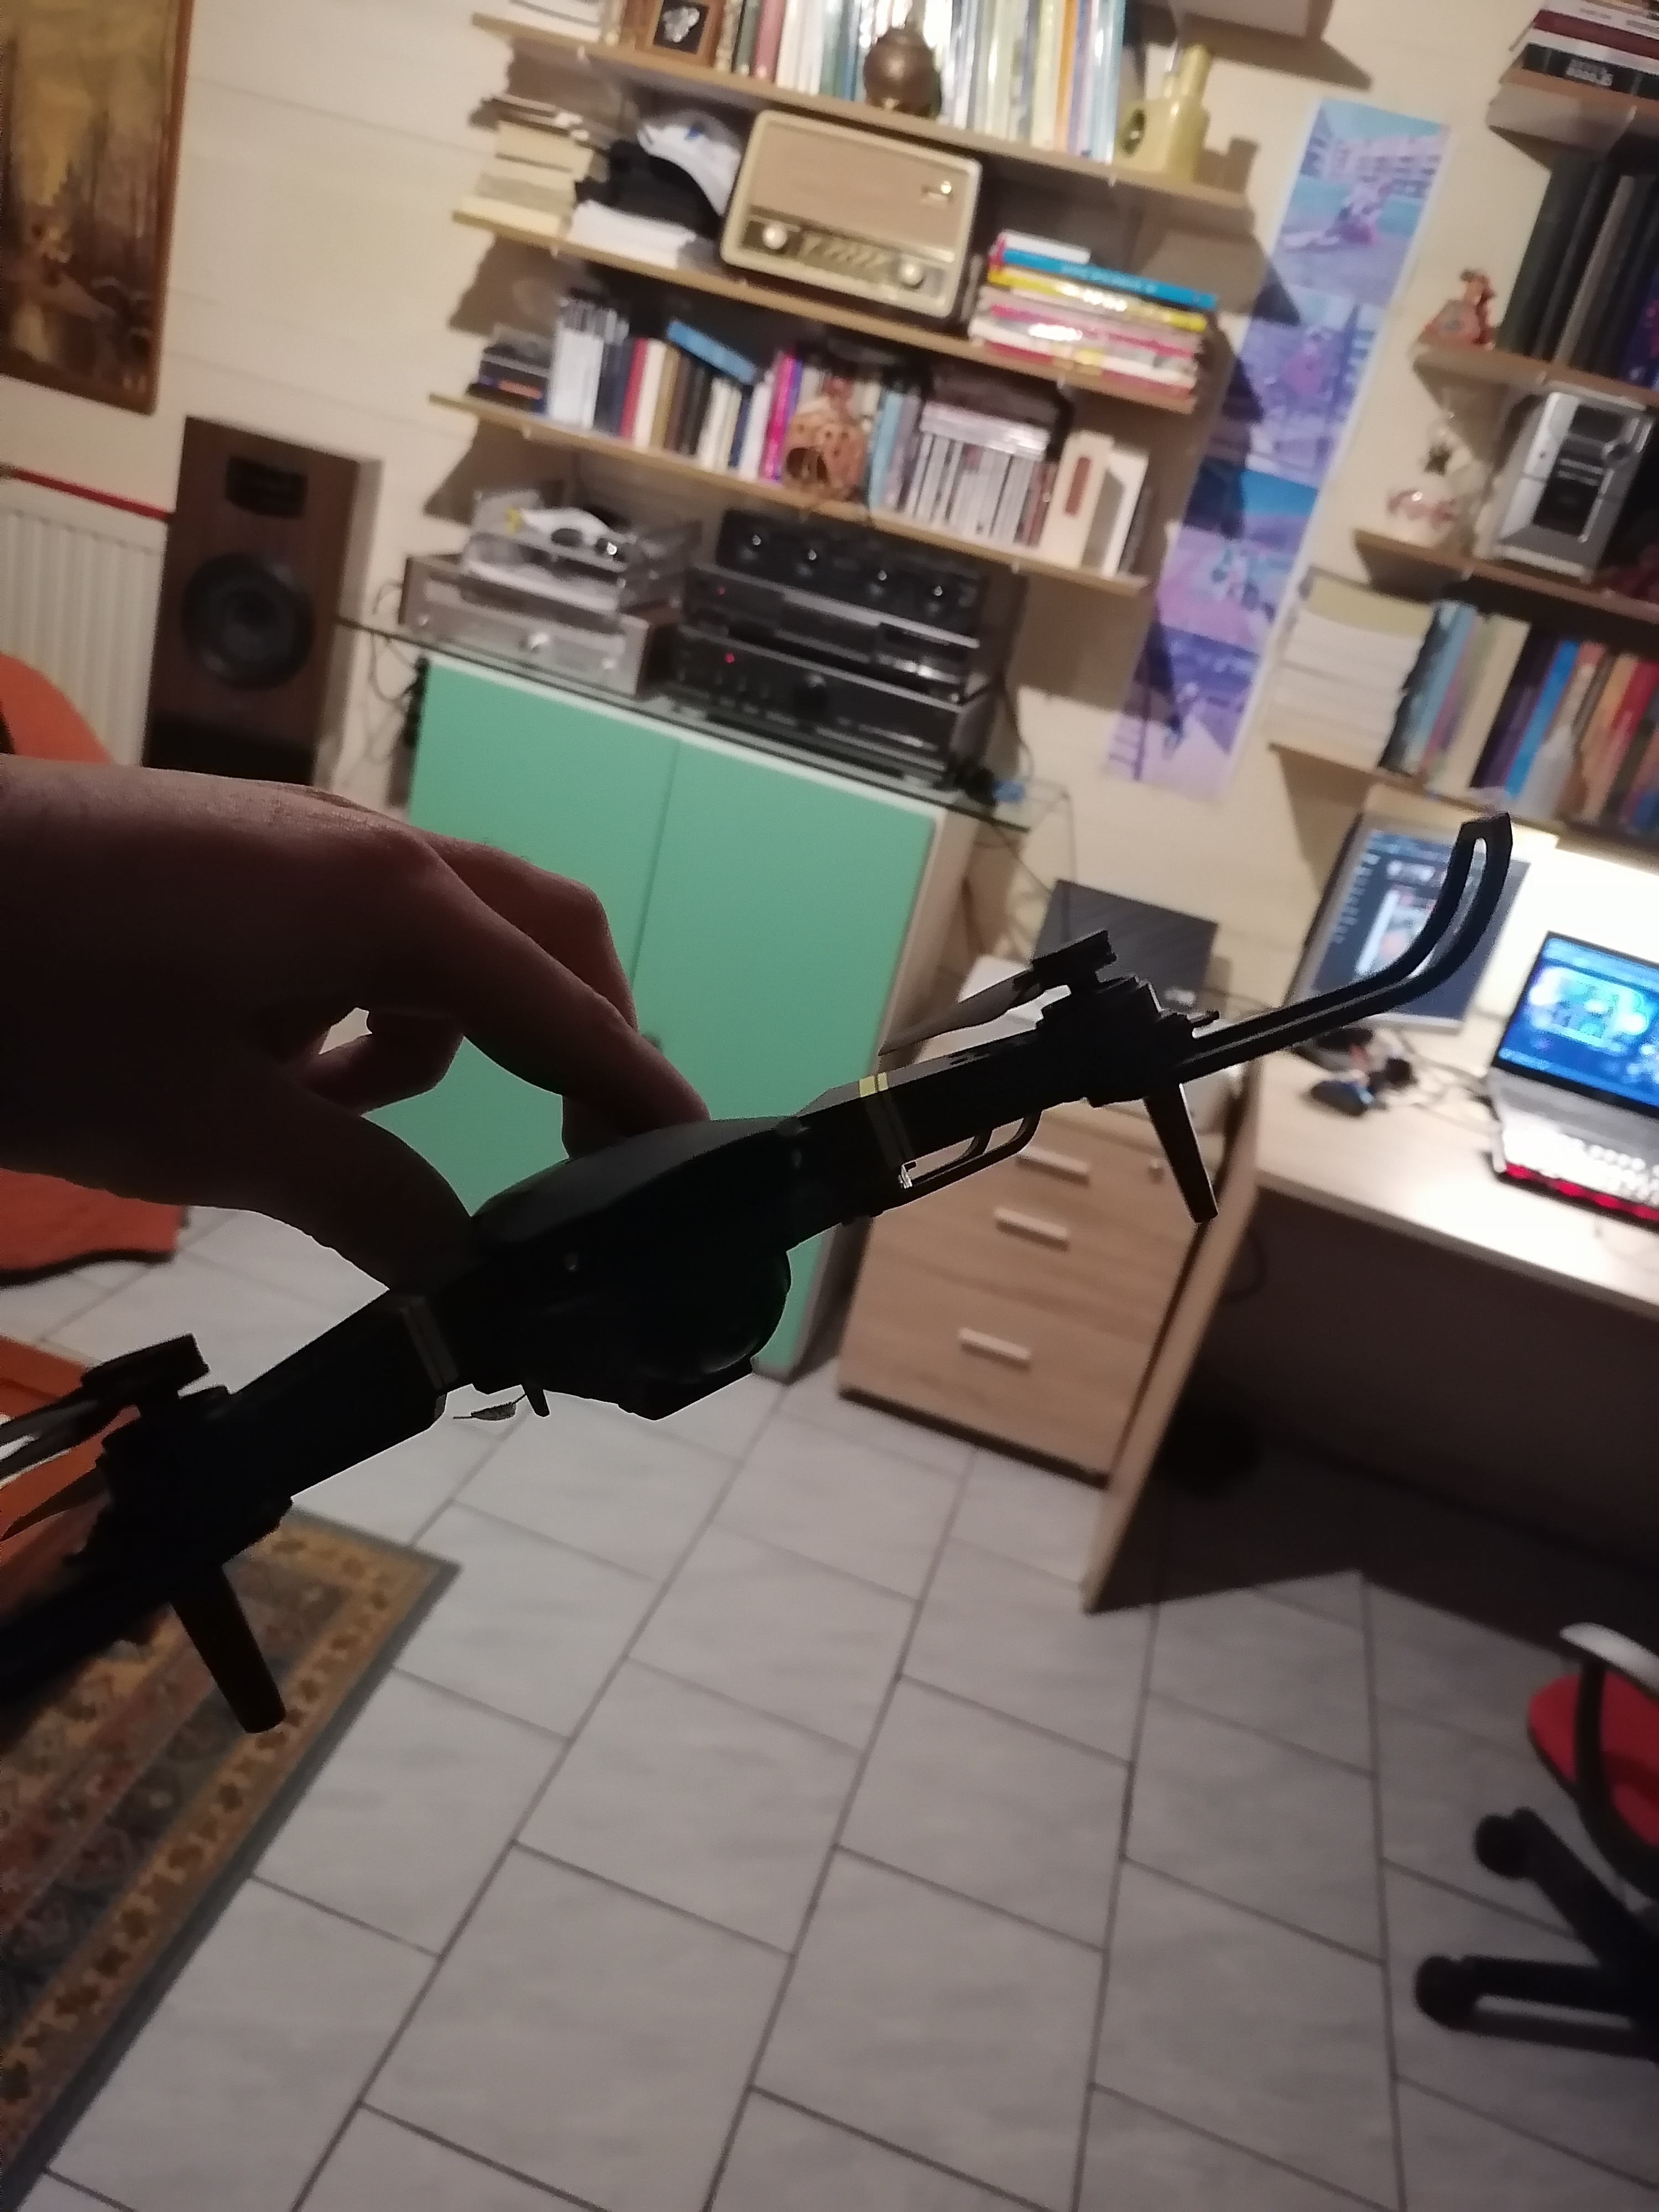drone: (9, 864, 1539, 1763)
